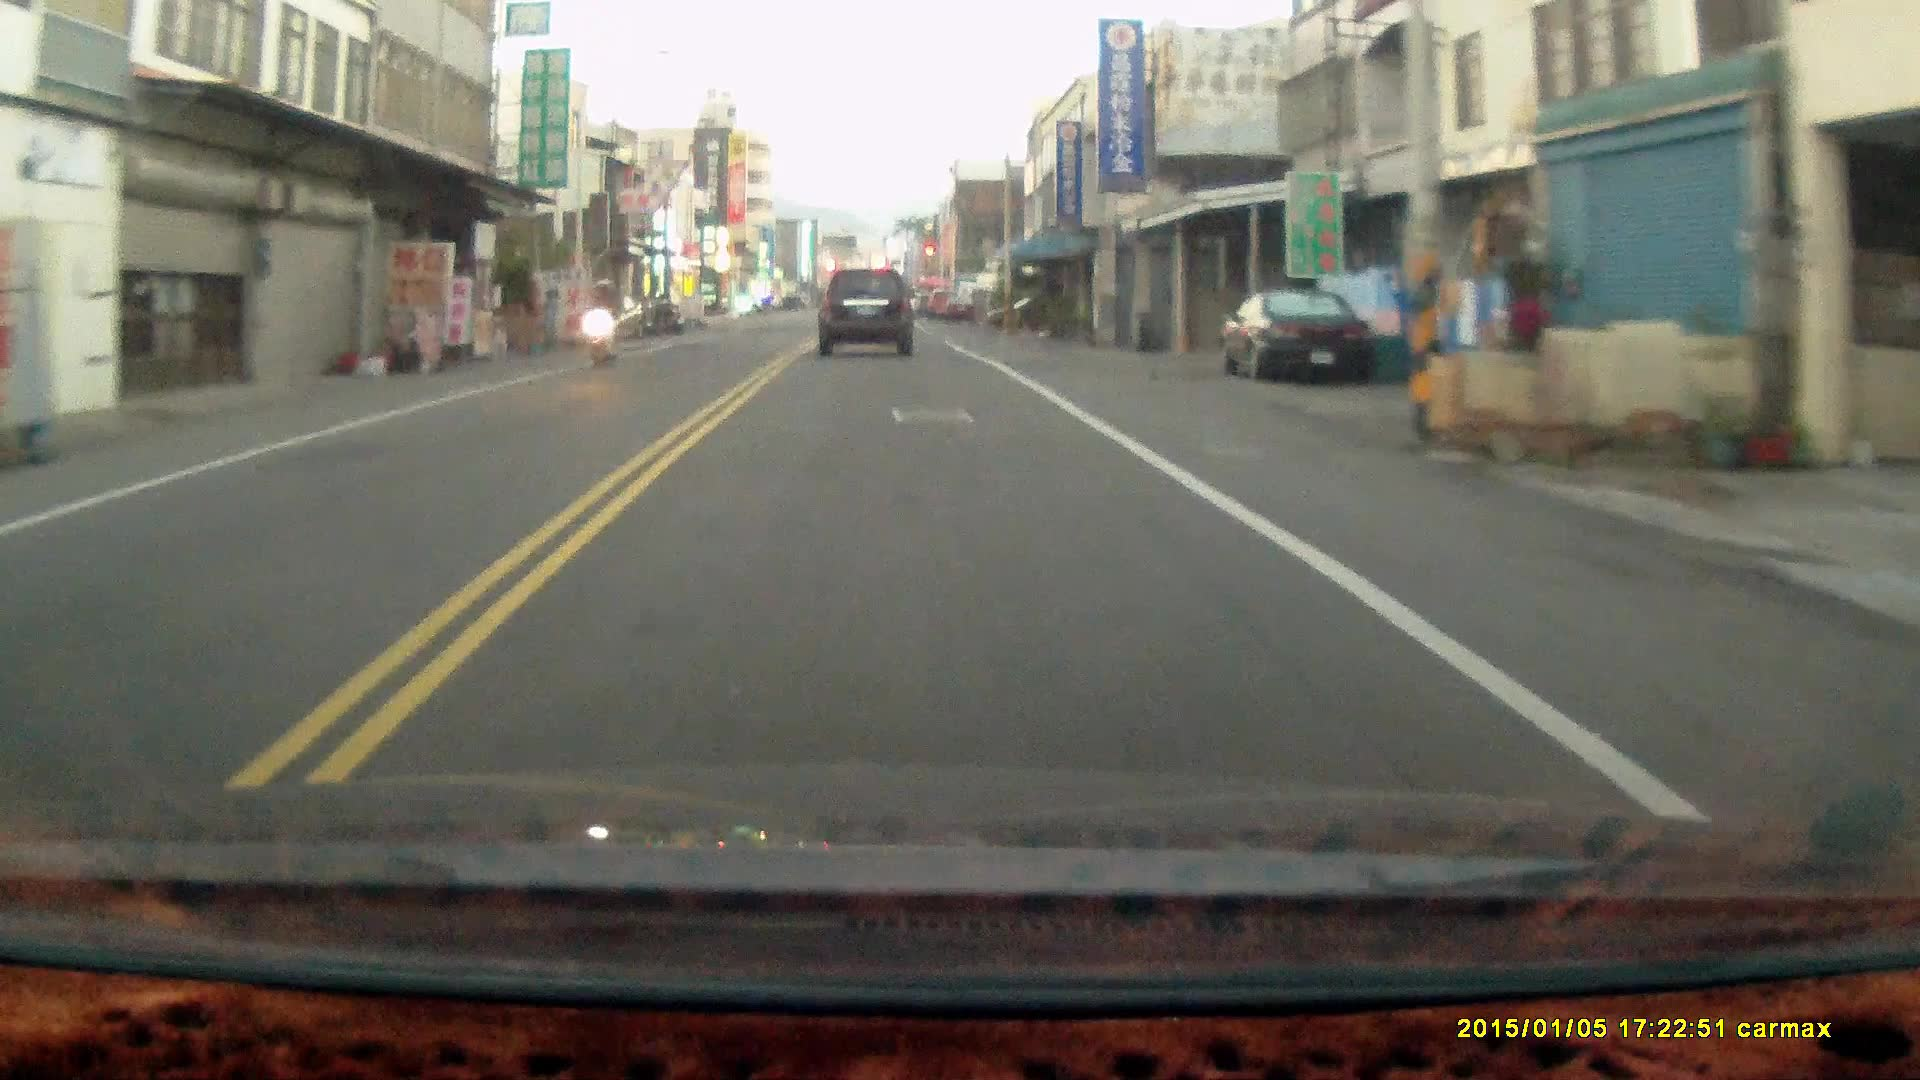rider: (579, 276, 621, 370)
vehicle: (1221, 290, 1380, 390), (819, 272, 916, 361)
